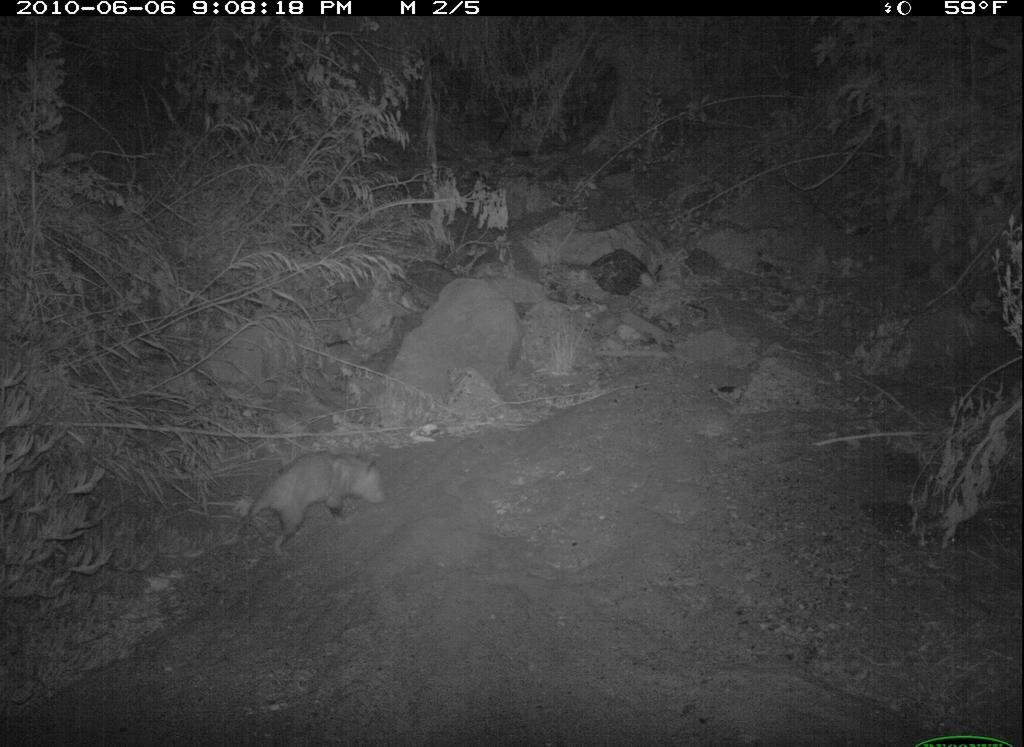opossum: (221, 442, 410, 557)
